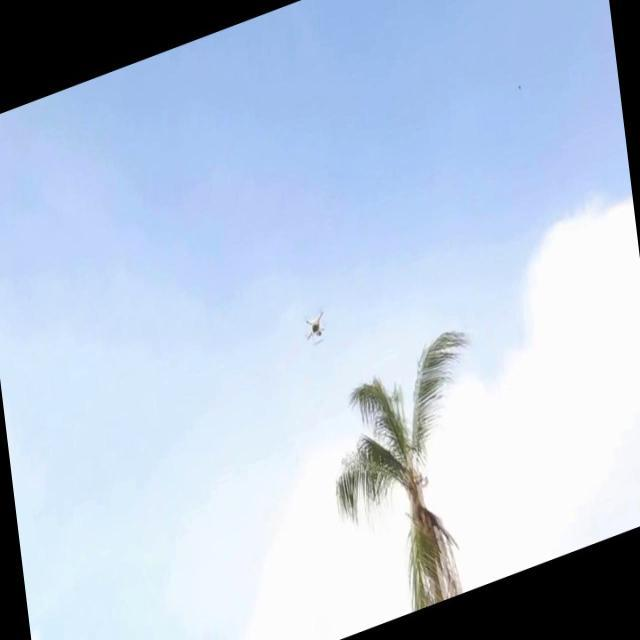drone: (300, 304, 328, 348)
